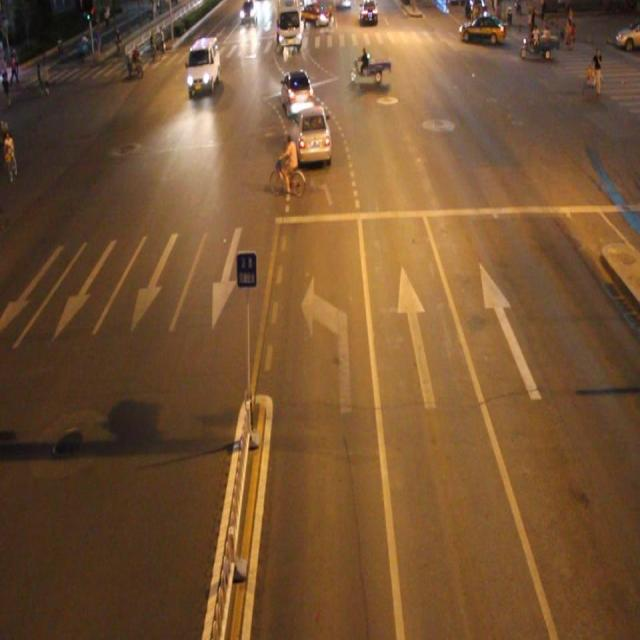car: (295, 104, 334, 164), (280, 67, 316, 119)
truck: (186, 36, 218, 92)
